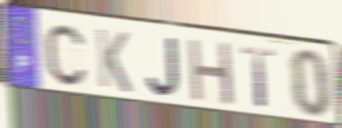0: (284, 46, 334, 120)
C: (43, 22, 88, 88)
H: (186, 36, 236, 108)
J: (145, 35, 182, 99)
K: (94, 26, 133, 96)
T: (240, 45, 278, 110)
